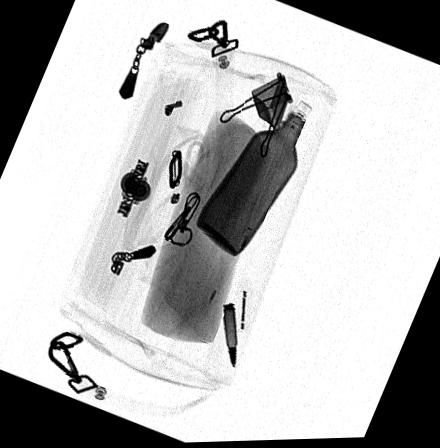Bullet: (221, 304, 237, 371)
